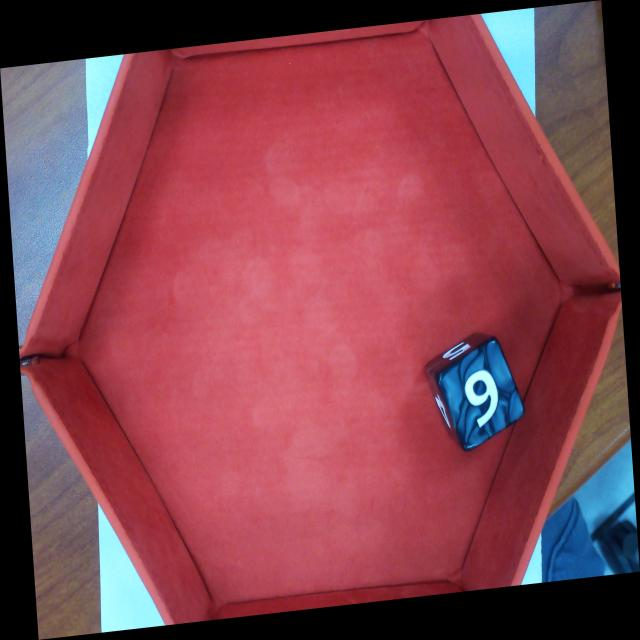dice: (438, 334, 528, 454)
